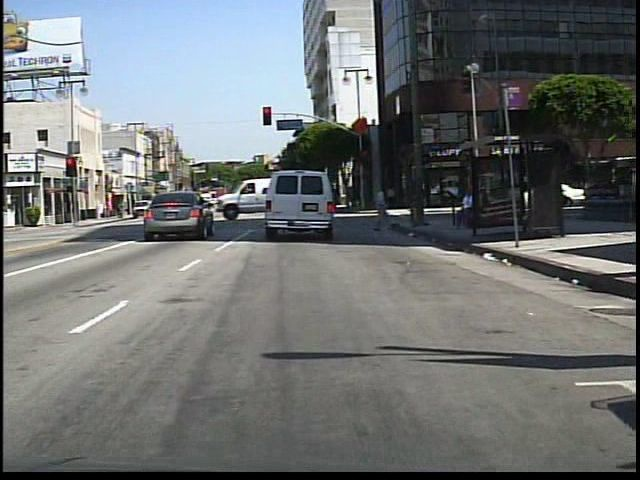person: (371, 181, 397, 235), (455, 187, 477, 234), (150, 192, 164, 218)
